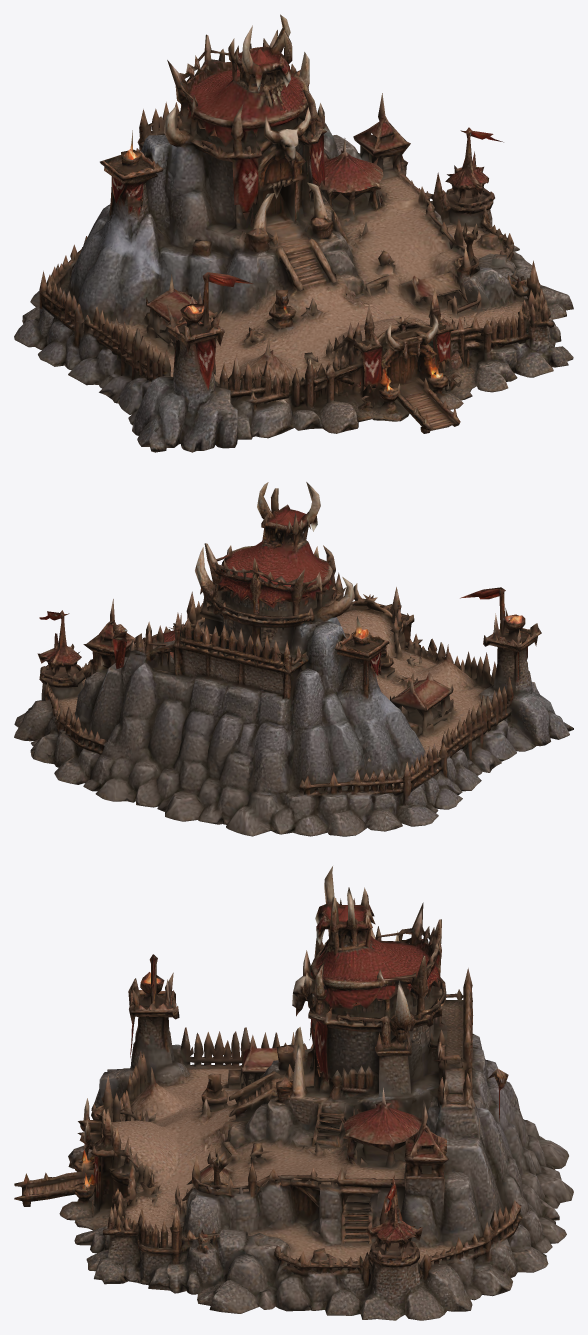
Rendered from Крепа варваров1новая.glb.
3 renders of one model, top to bottom at view 1: azimuth 30°, elevation 25°; view 2: azimuth 150°, elevation 25°; view 3: azimuth 270°, elevation 25°, orthographic. The views are drawn at different scales.
Visible parts, largest first — view 1: tripo_node_f48bd7aa-20fa-4b89-bbb7-24872db51212; view 2: tripo_node_f48bd7aa-20fa-4b89-bbb7-24872db51212; view 3: tripo_node_f48bd7aa-20fa-4b89-bbb7-24872db51212.
Part boxes in pixels (bbox=[...]): tripo_node_f48bd7aa-20fa-4b89-bbb7-24872db51212: bbox=[14, 14, 573, 452]; tripo_node_f48bd7aa-20fa-4b89-bbb7-24872db51212: bbox=[14, 482, 573, 836]; tripo_node_f48bd7aa-20fa-4b89-bbb7-24872db51212: bbox=[14, 866, 573, 1320].
Bounding box in the file's own units: 1 × 0.5966 × 0.9642.
1 material, 1 textured.
